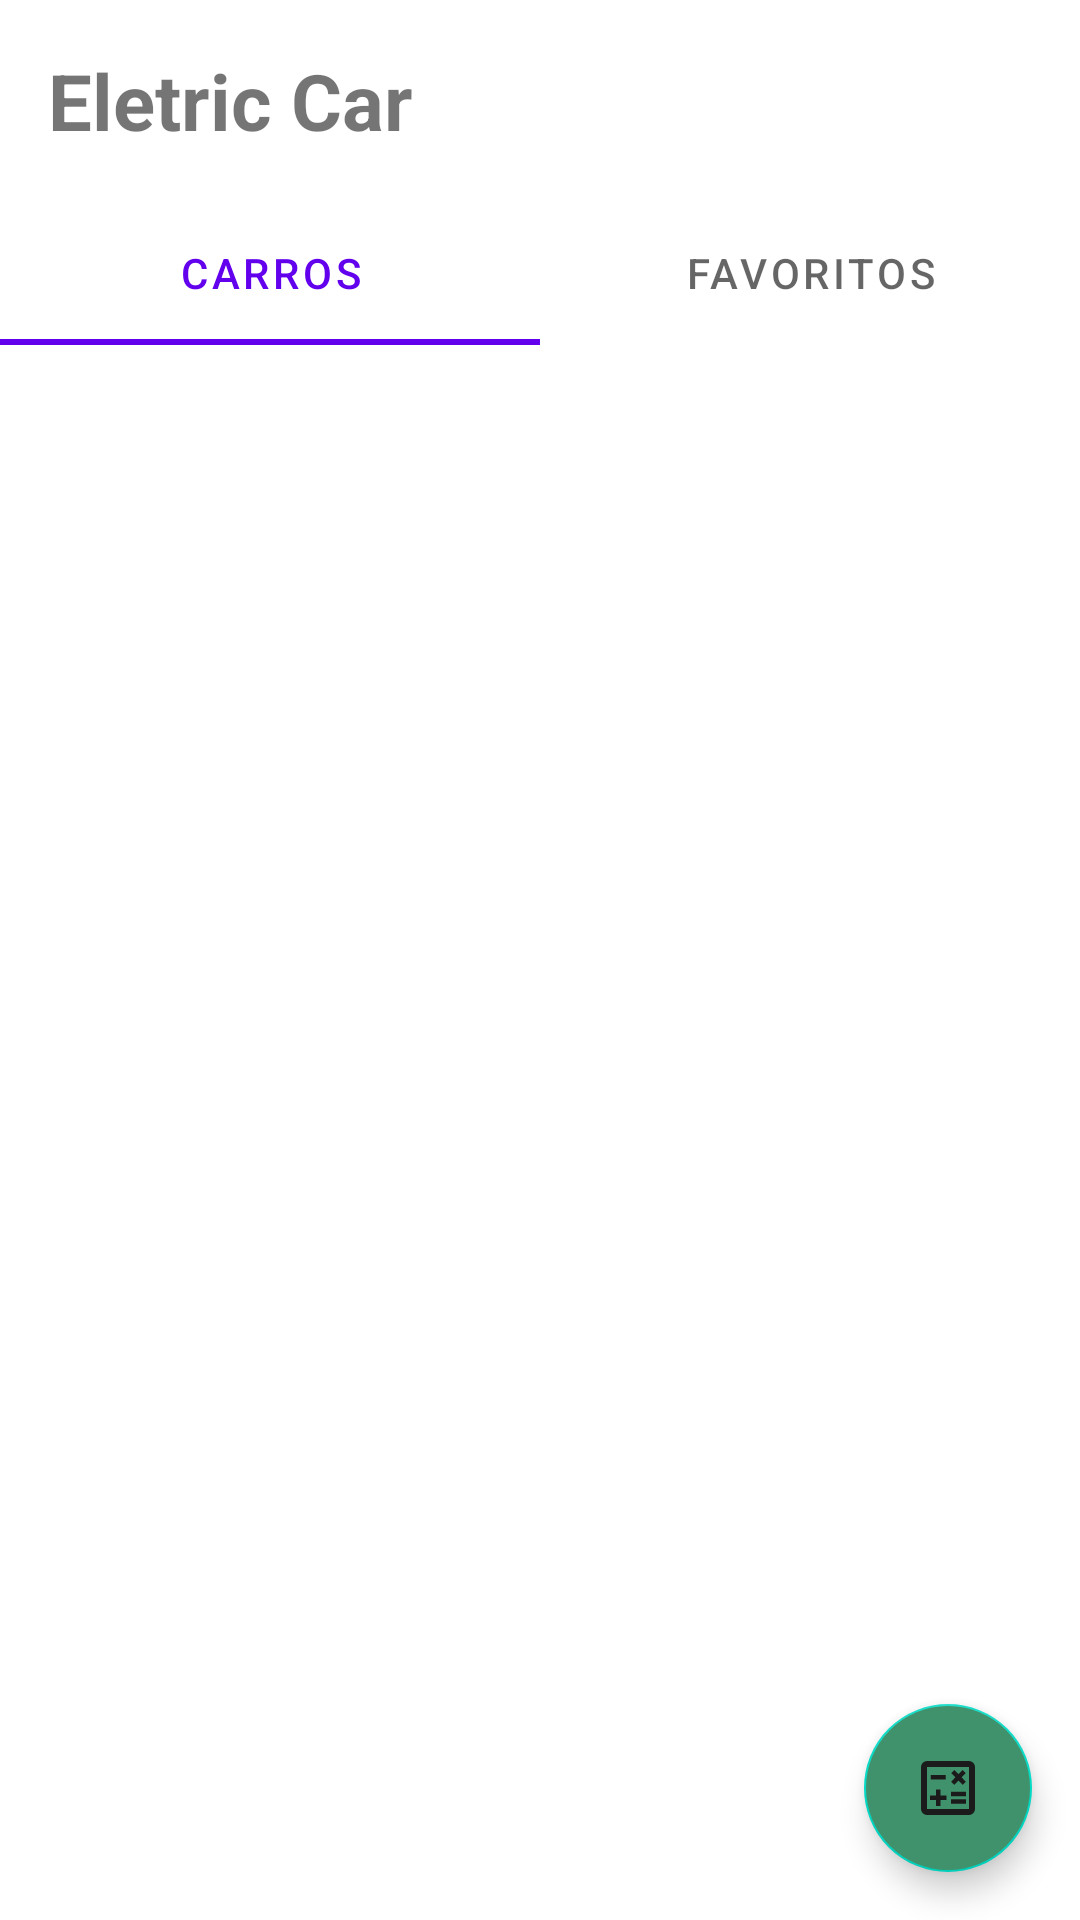

Where to tap for icons on this 1080 × 1920 app screen, as (x=x, y=y):
Calcular Autonomia: (x=948, y=1788)
